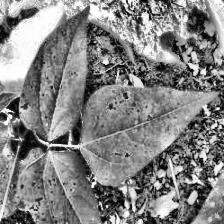ALS: (81, 82, 210, 180), (18, 5, 90, 138), (19, 151, 106, 224), (0, 136, 44, 224)
